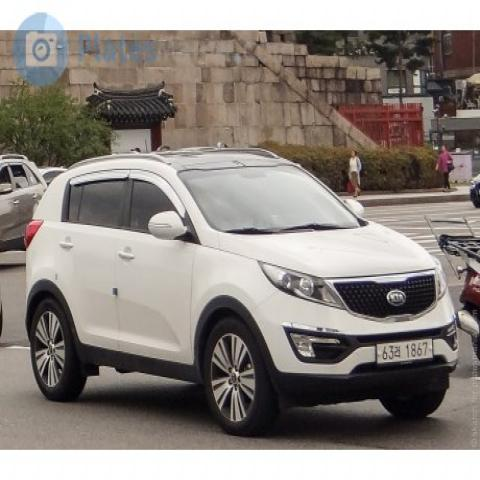LP: (369, 335, 442, 366)
